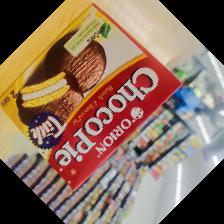Chocopie: (1, 2, 183, 193)
